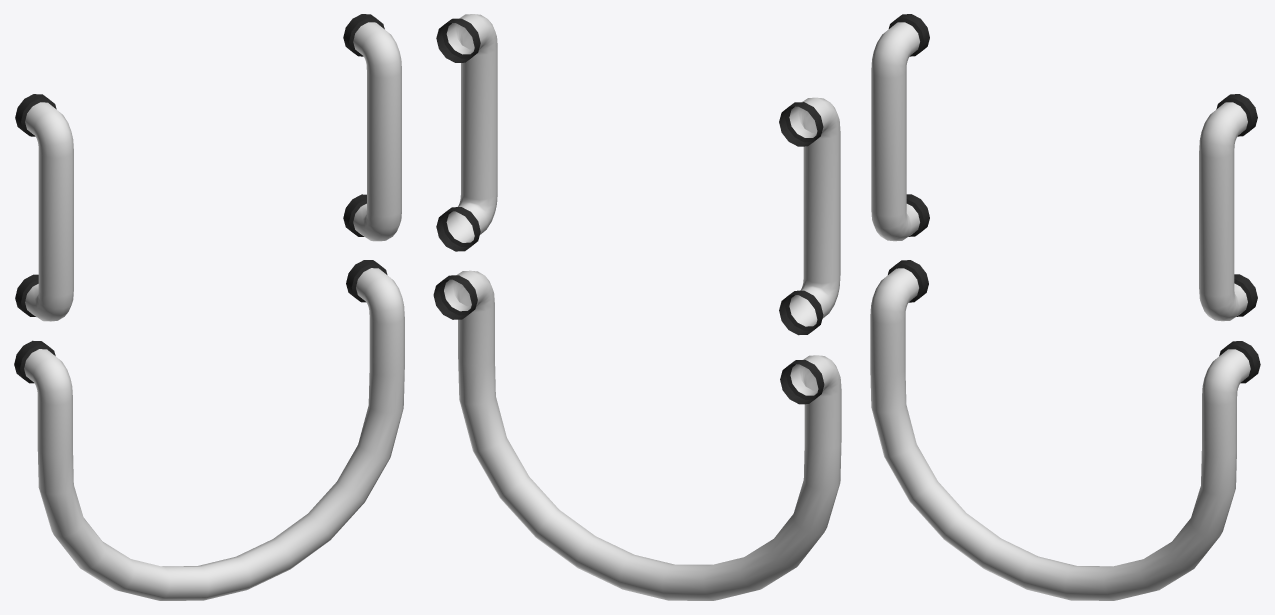
File: LettersNeon01_U.FBX
3 views of the same model, side by side, from view 1: azimuth 30°, elevation 25°; view 2: azimuth 150°, elevation 25°; view 3: azimuth 330°, elevation 25° (orthographic). The views are drawn at different scales.
Parts seen in each view (by area): view 1: LettersNeon01_U; view 2: LettersNeon01_U; view 3: LettersNeon01_U.
Boxes of the visible parts, x1,y1,x2,y2 form: LettersNeon01_U: (14,14,404,600); LettersNeon01_U: (433,14,841,600); LettersNeon01_U: (870,14,1260,600).
Size of what is drawn, in the model's own units: 0.3633 by 0.4932 by 0.054.
